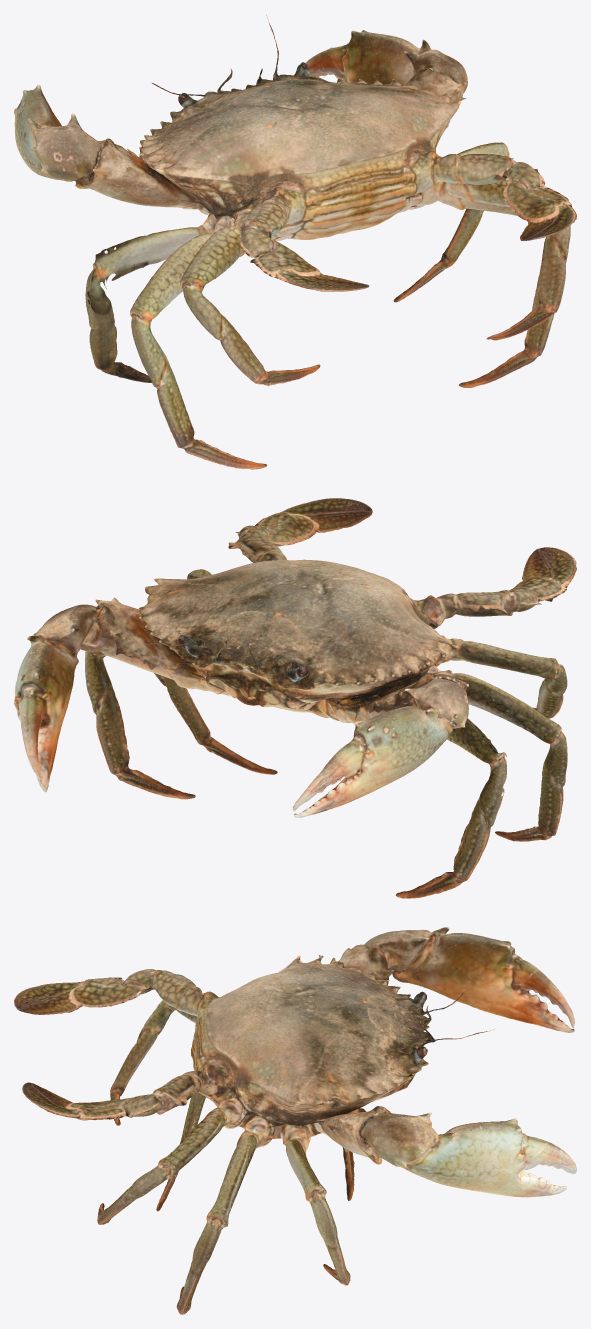
The model's file is scylla_serrata_female.glb.
3 renders of one model, top to bottom at view 1: azimuth 30°, elevation 25°; view 2: azimuth 150°, elevation 25°; view 3: azimuth 270°, elevation 25°, orthographic. The views are drawn at different scales.
Parts seen in each view (by area): view 1: Q12191-1-9_1; view 2: Q12191-1-9_1; view 3: Q12191-1-9_1.
Part boxes in pixels (box(x1,y1,x2,y2)): Q12191-1-9_1: box(14, 15, 576, 469); Q12191-1-9_1: box(14, 498, 576, 898); Q12191-1-9_1: box(14, 927, 576, 1314).
Bounding box in the file's own units: 0.1927 × 0.1193 × 0.2264.
1 material, 1 textured.
